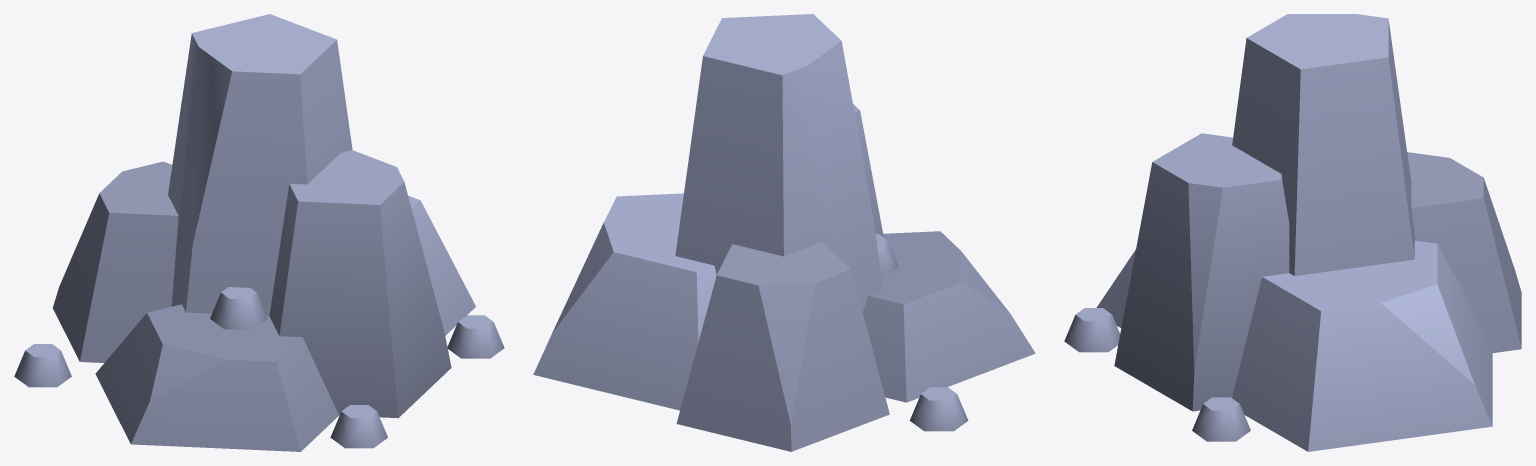
Rendered from rock-large.007_lev2.glb.
3 views of the same model, side by side, from view 1: azimuth 30°, elevation 25°; view 2: azimuth 150°, elevation 25°; view 3: azimuth 270°, elevation 25° (orthographic). The views are drawn at different scales.
Parts seen in each view (by area): view 1: rock-large.007_lev2; view 2: rock-large.007_lev2; view 3: rock-large.007_lev2.
Part boxes in pixels (x1,y1,x2,y2): rock-large.007_lev2: [14, 14, 504, 451]; rock-large.007_lev2: [533, 14, 1035, 451]; rock-large.007_lev2: [1064, 14, 1521, 451].
Size of the model in its own units: 5.9 by 4.11 by 5.47.
1 material, 1 textured.
